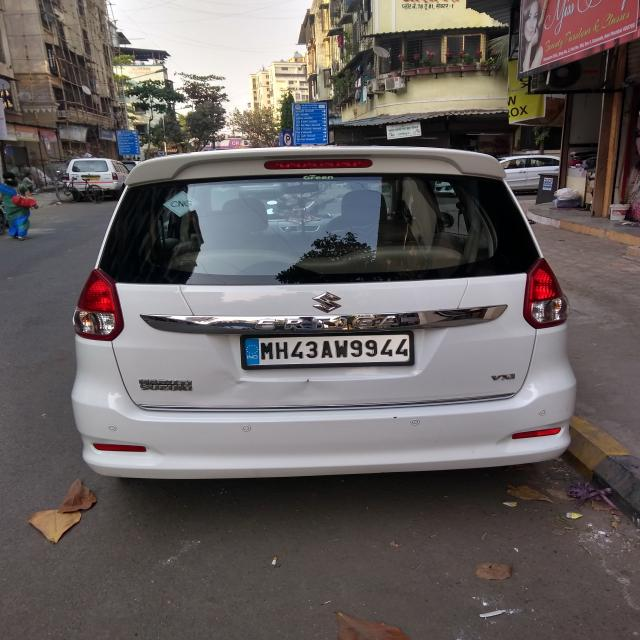Number-Plate: (244, 334, 414, 366)
